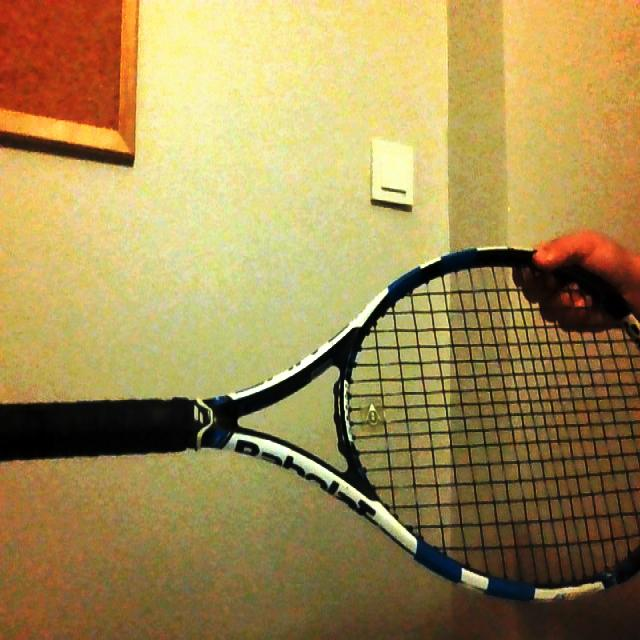TennisRacket: (0, 248, 637, 601)
